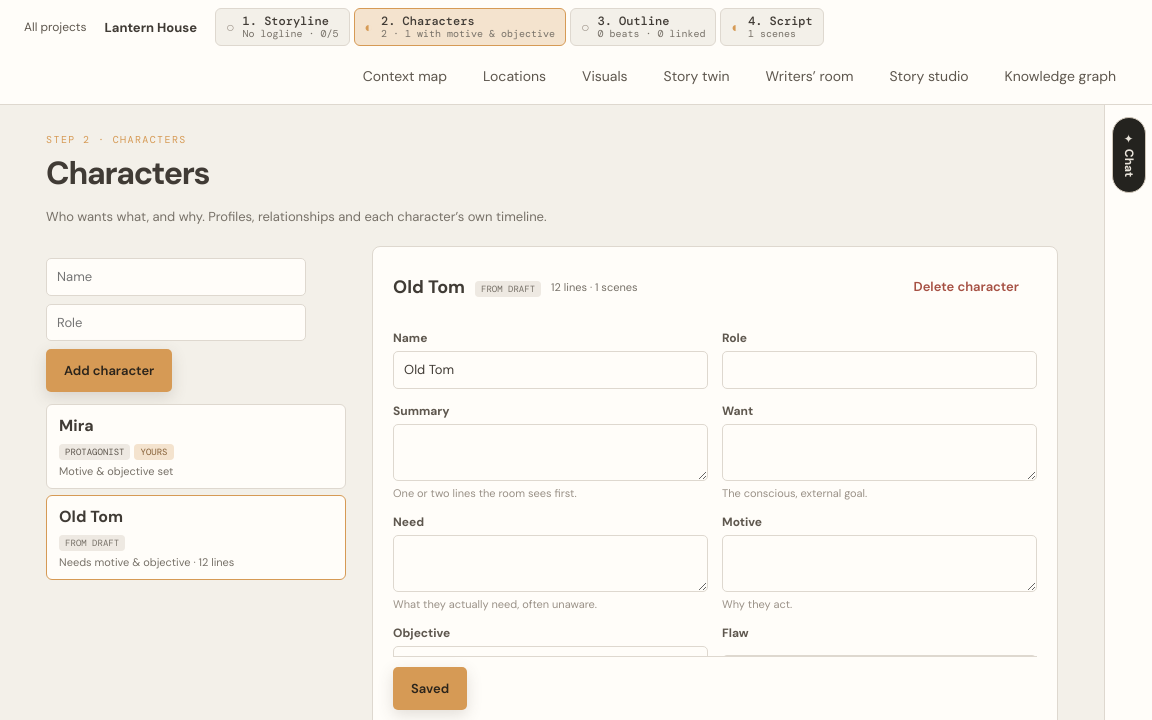
Test: CharactersPage › deletes a character only after confirmation
Click the button "Delete character" at (966, 287), box [896, 265, 1037, 308]
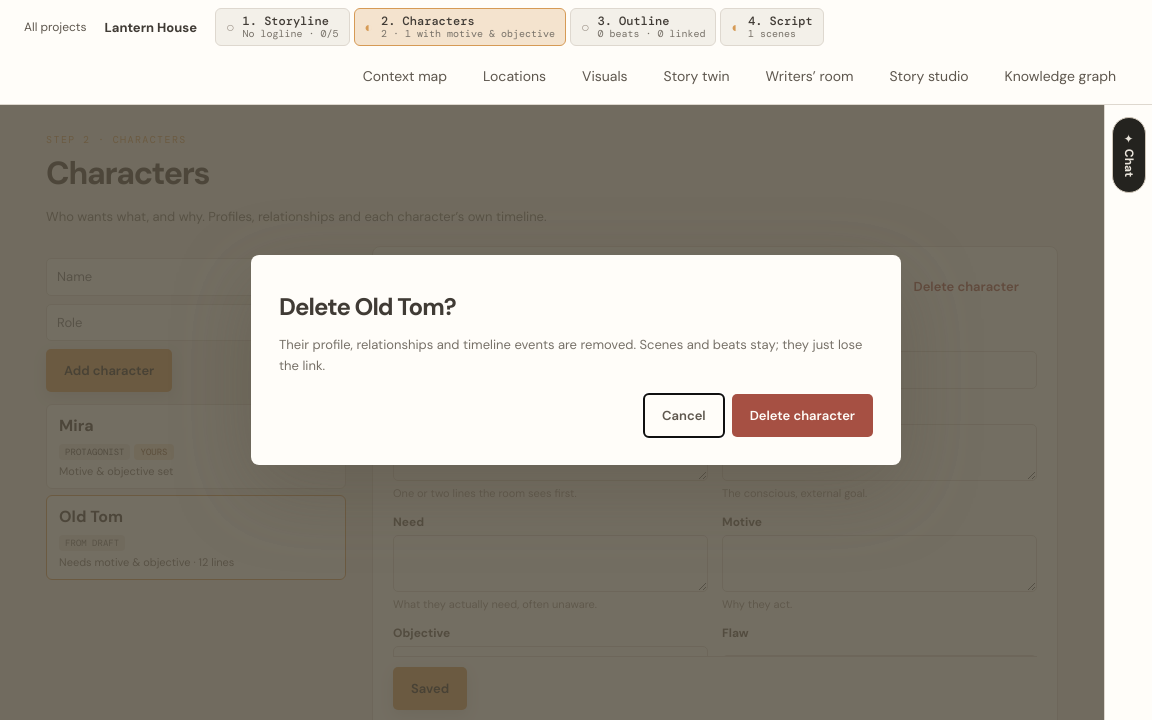
Click the button "Cancel" at (684, 416), box [644, 394, 724, 437]
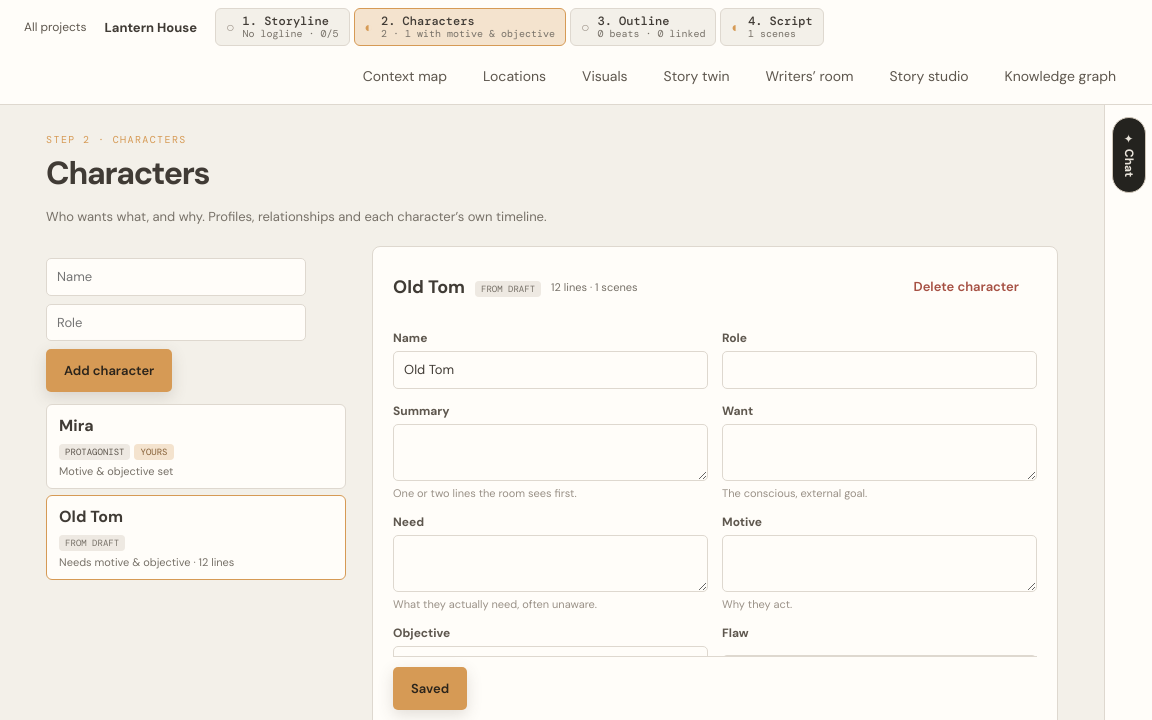
Click the button "Delete character" at (966, 287), box [896, 265, 1037, 308]
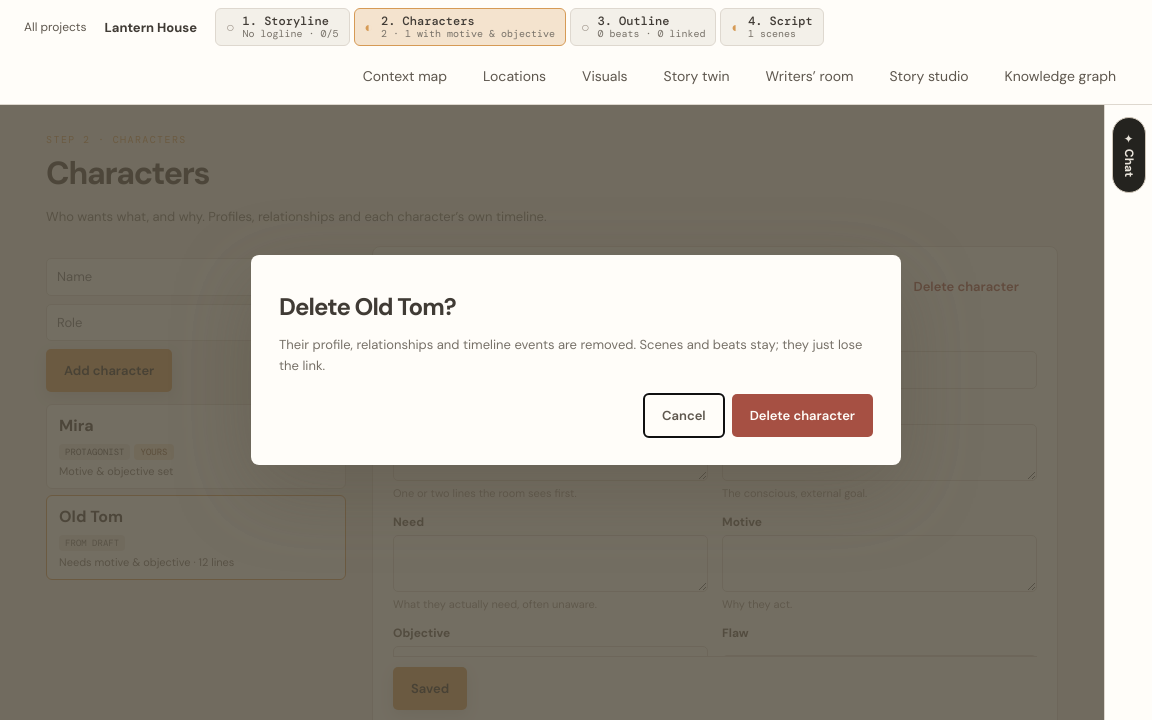
Click the button "Delete character" at (802, 416), box [732, 394, 873, 437]
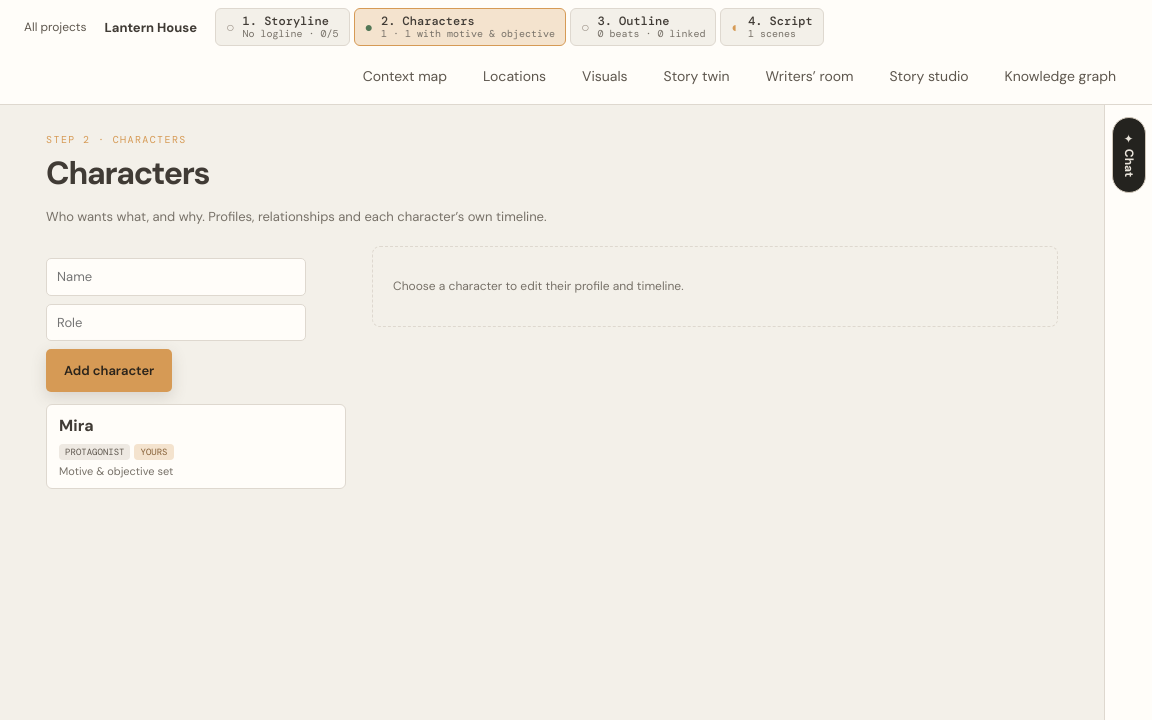
Expected: the text "Choose a character to edit their profile and timeline." is shown, [393, 278, 684, 294]
